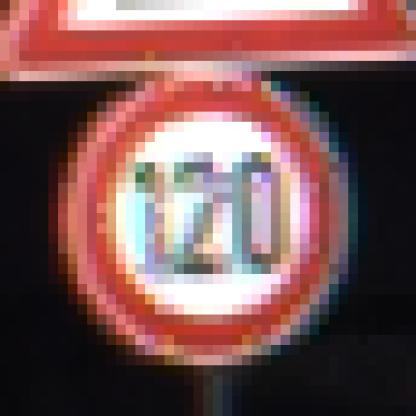Speed Limit 120: (77, 76, 343, 362)
